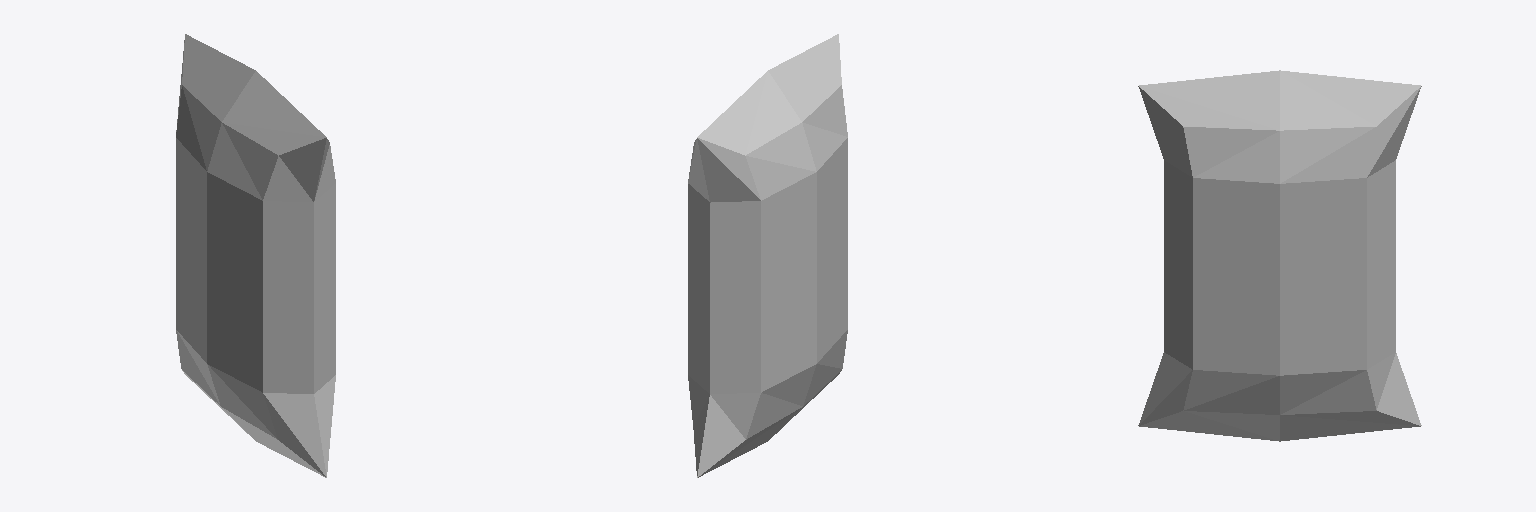
The model's file is sack_1_001.obj.
3 renders of one model, left to right at view 1: azimuth 30°, elevation 25°; view 2: azimuth 150°, elevation 25°; view 3: azimuth 270°, elevation 25°, orthographic.
Visible parts, largest first — view 1: sack; view 2: sack; view 3: sack.
Part boxes in pixels (bbox=[...]): sack: bbox=[176, 34, 335, 477]; sack: bbox=[688, 34, 847, 477]; sack: bbox=[1138, 70, 1421, 441].
Size of the model in its own units: 0.6299 by 2.29 by 1.58.